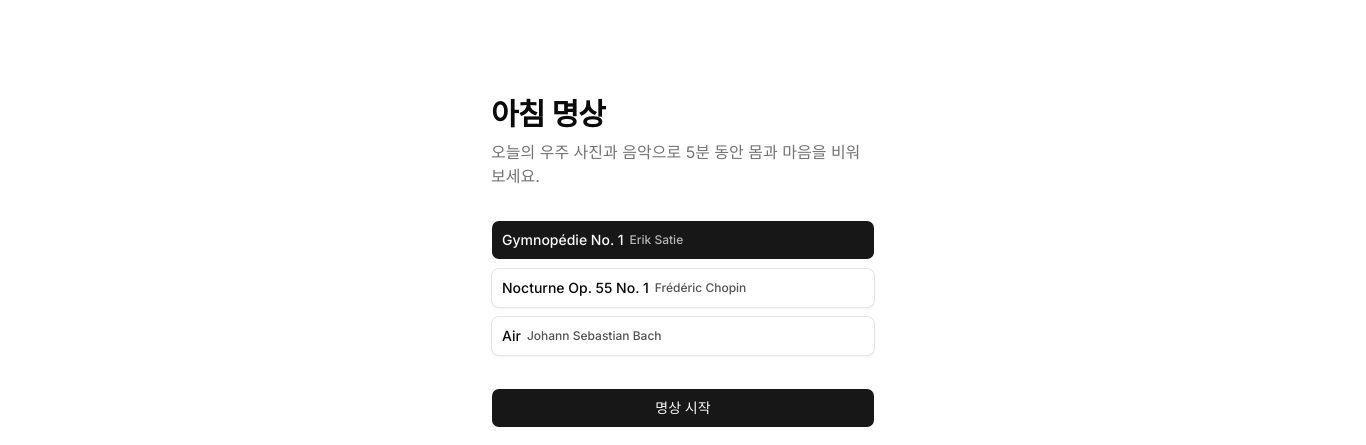
Test: 실패하는 날 › 쓸 수 있는 사진이 없어도 사진 없이 명상이 진행된다
Click the button "명상 시작".
click(683, 408)  # box [491,388,875,428]
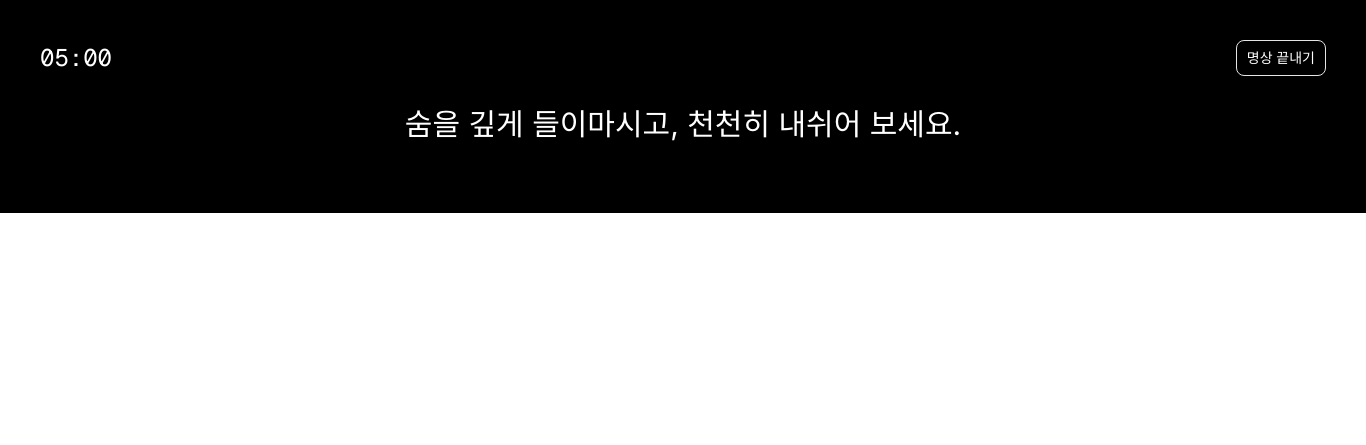
Expected: the text "05:00" is shown, [40,42,112,74]
